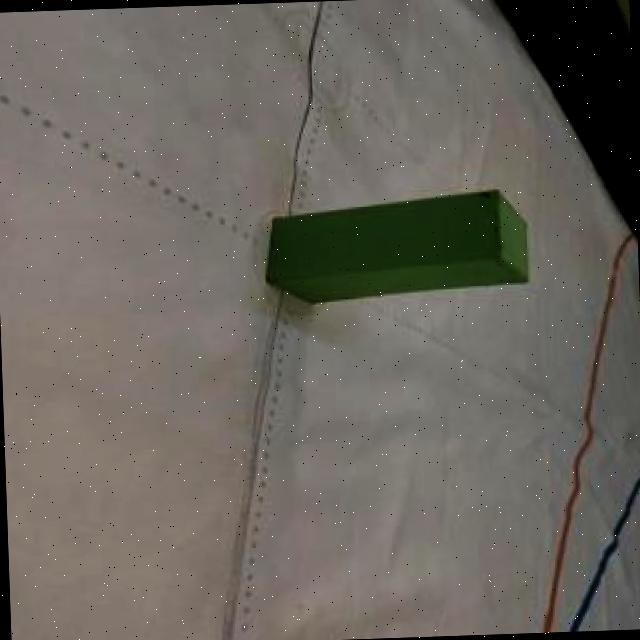greenbox: (259, 190, 534, 306)
